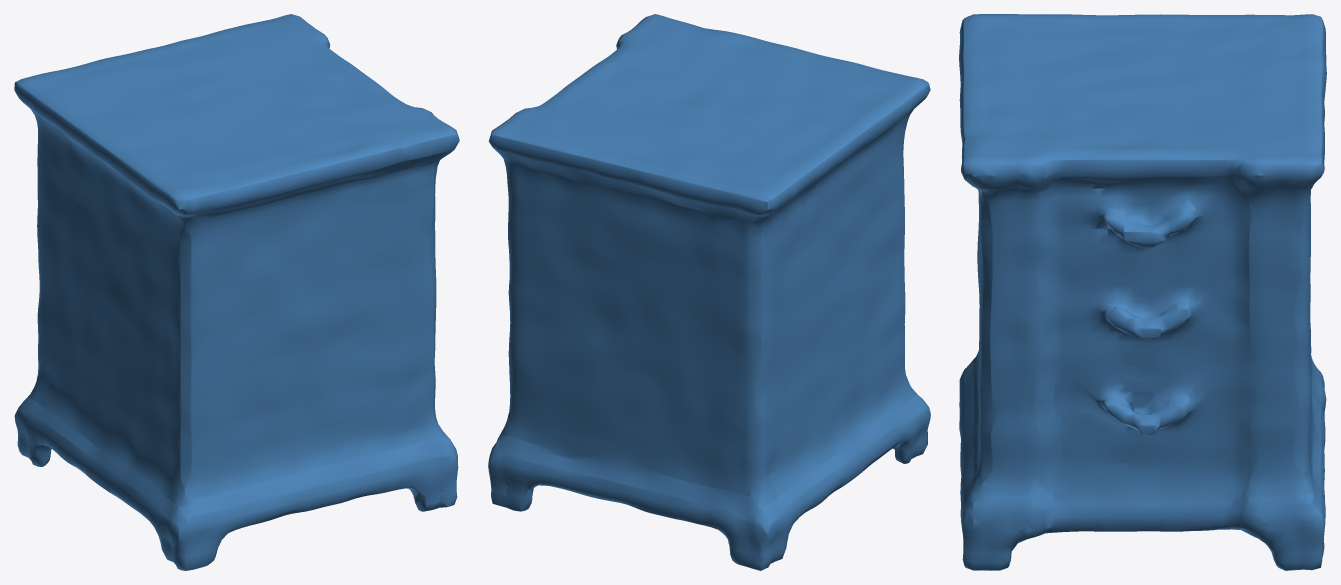
The model's file is nightstand_8_4.obj.
The picture shows the model from 3 angles, left to right: view 1: azimuth 30°, elevation 25°; view 2: azimuth 150°, elevation 25°; view 3: azimuth 270°, elevation 25°; orthographic projection. The views are drawn at different scales.
Bounding box in the file's own units: 0.6413 × 0.7983 × 0.6444.
